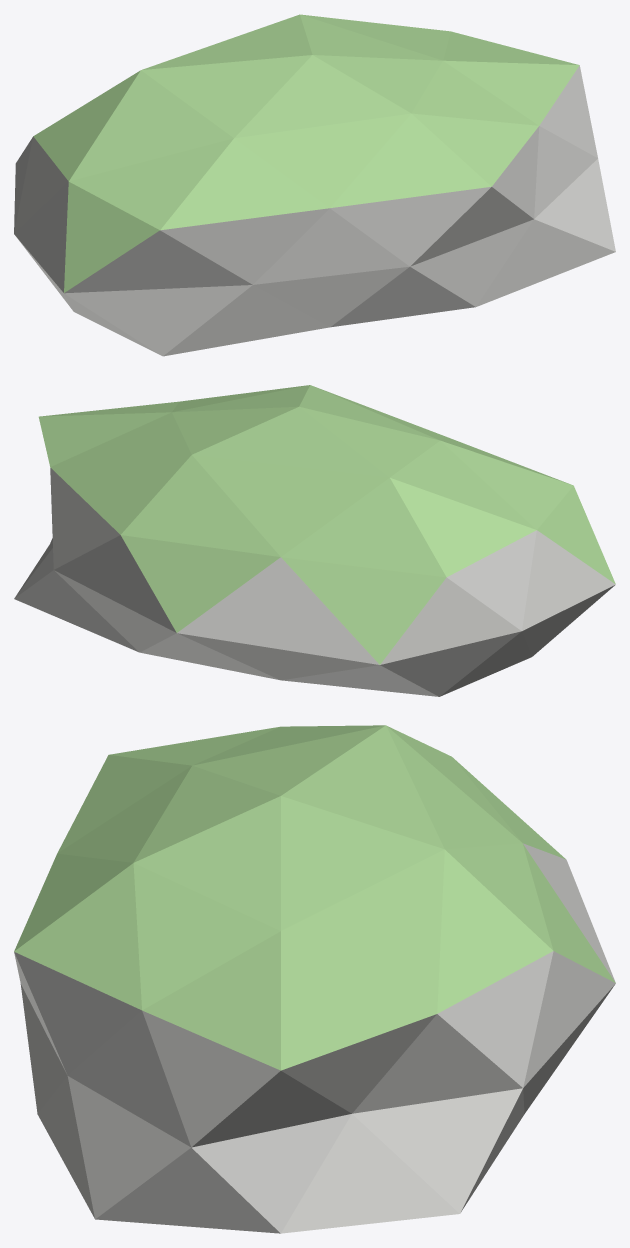
File: rock_large_B.glb
3 views of the same model, one above another, from view 1: azimuth 30°, elevation 25°; view 2: azimuth 150°, elevation 25°; view 3: azimuth 270°, elevation 25° (orthographic). The views are drawn at different scales.
Visible parts, largest first — view 1: rock_large_B; view 2: rock_large_B; view 3: rock_large_B.
Boxes of the visible parts, x1,y1,x2,y2 form: rock_large_B: [14, 14, 615, 356]; rock_large_B: [14, 385, 615, 696]; rock_large_B: [14, 725, 615, 1233].
Bounding box in the file's own units: 0.6665 × 0.2335 × 0.4698.
